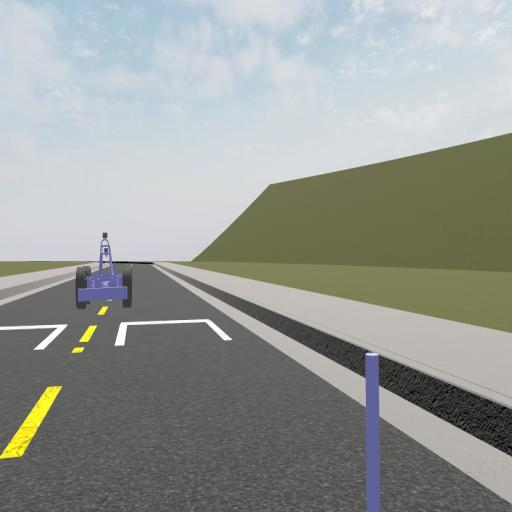ERP-42: (76, 234, 134, 308)
